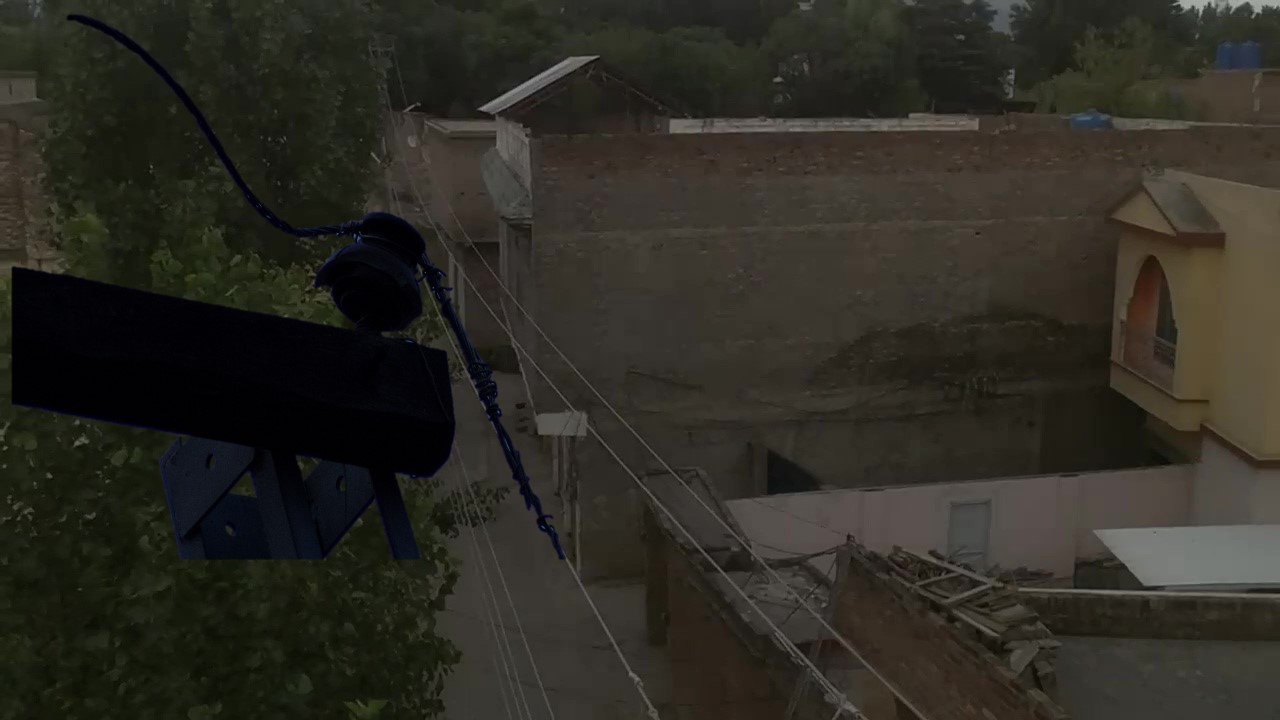defect_pin: (309, 209, 435, 339)
